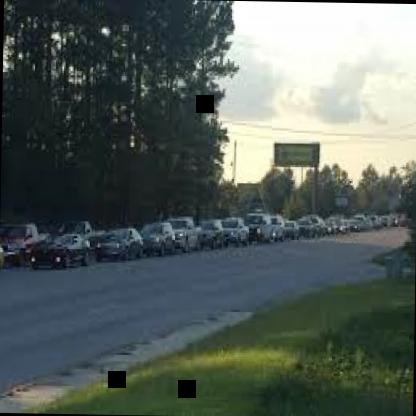car: (7, 210, 52, 276), (90, 222, 144, 274), (34, 228, 90, 277), (135, 213, 175, 266), (228, 184, 249, 256), (199, 198, 224, 258), (242, 205, 272, 253), (178, 207, 200, 259), (264, 207, 288, 248)
